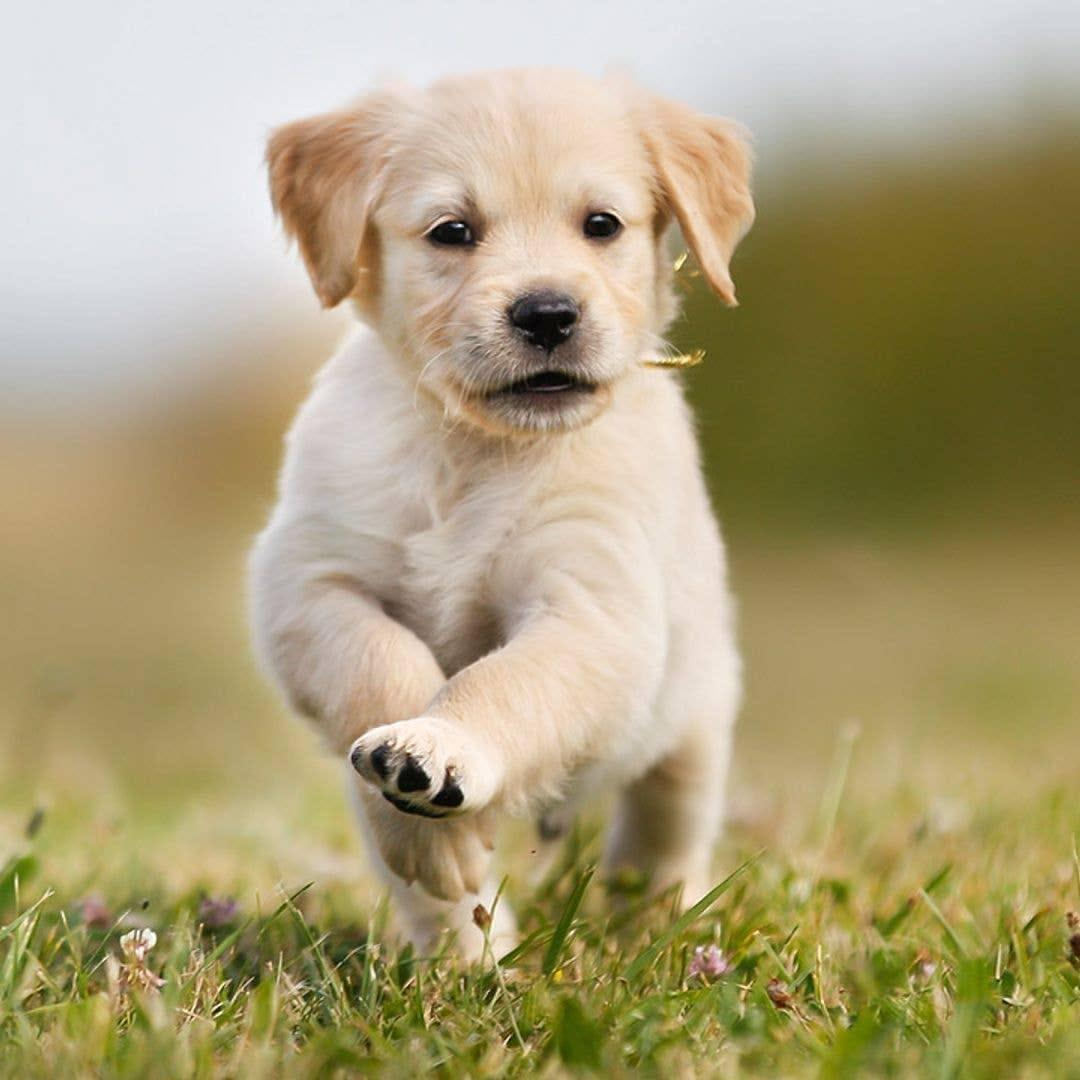puppy-dog: (236, 52, 762, 979)
